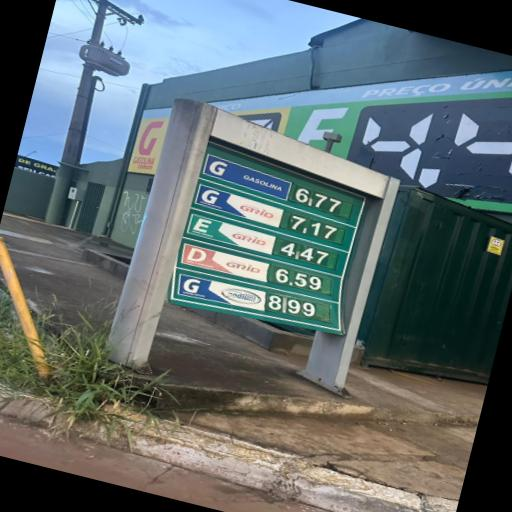ETANOL: (188, 216, 275, 253)
GASOLINA AD: (198, 186, 284, 226)
GASOLINA C: (204, 154, 291, 200)
S10: (184, 244, 268, 280)
placa: (165, 142, 363, 334)
preco: (292, 185, 347, 215), (286, 213, 339, 240), (279, 240, 330, 267), (273, 266, 324, 291)
